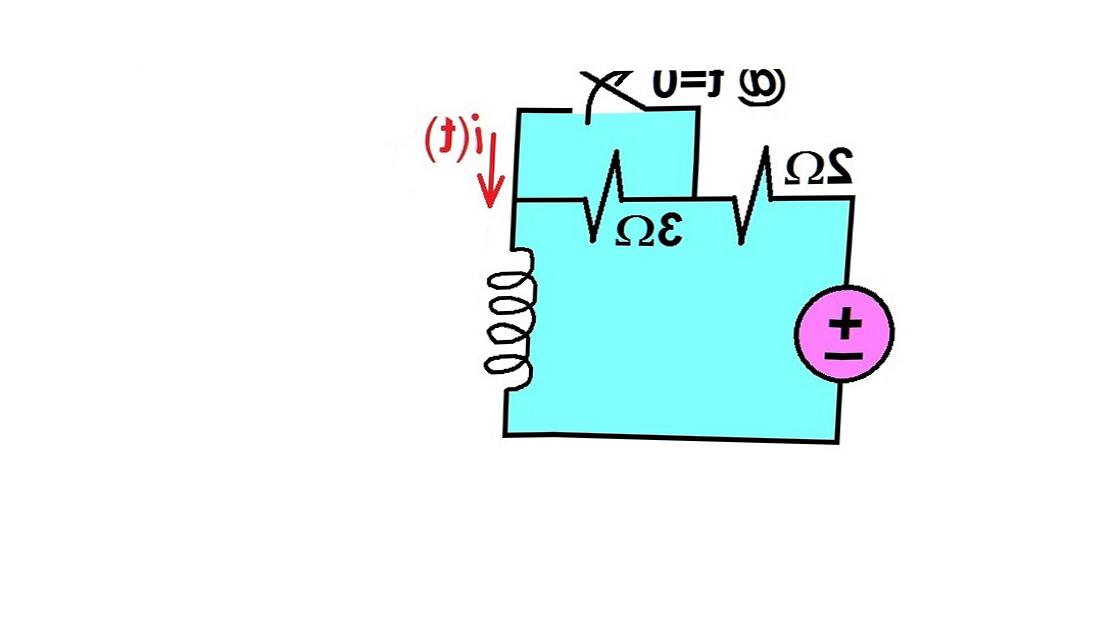Battery: (778, 264, 927, 397)
